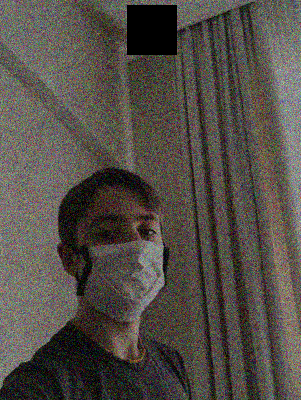with_mask: (77, 206, 170, 323)
